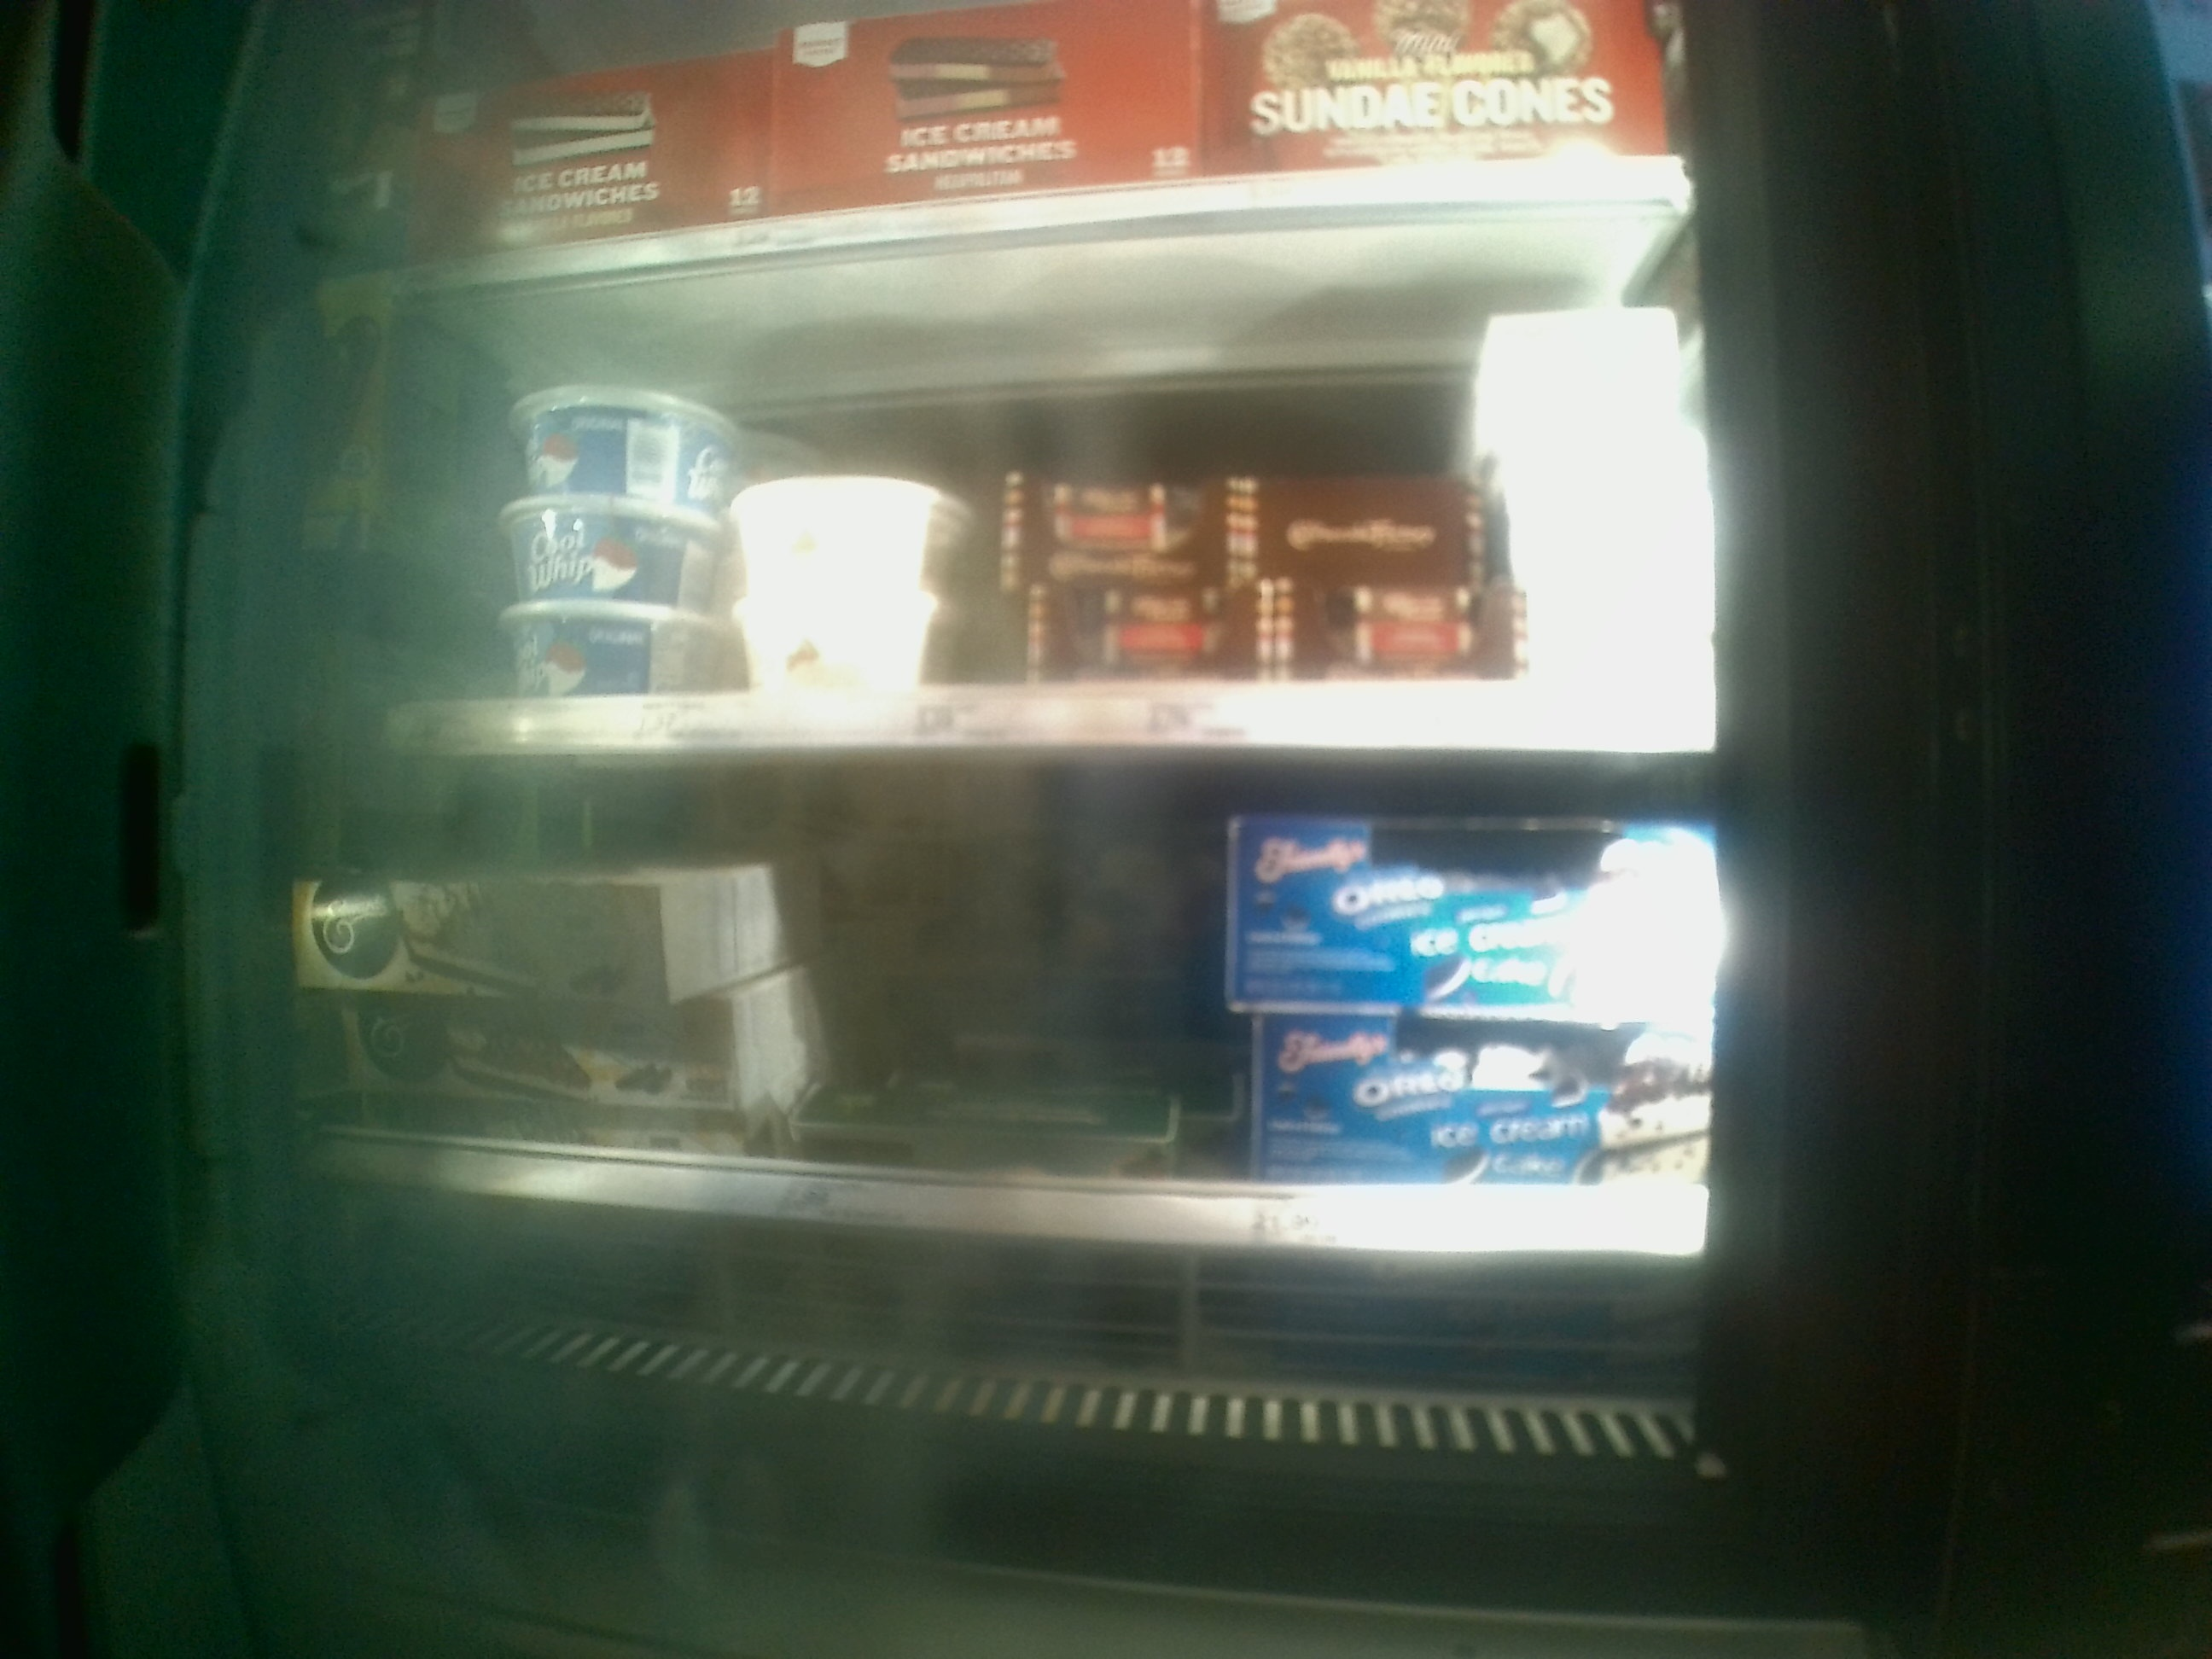shelf: (291, 739, 1735, 1344), (298, 277, 1730, 744)
